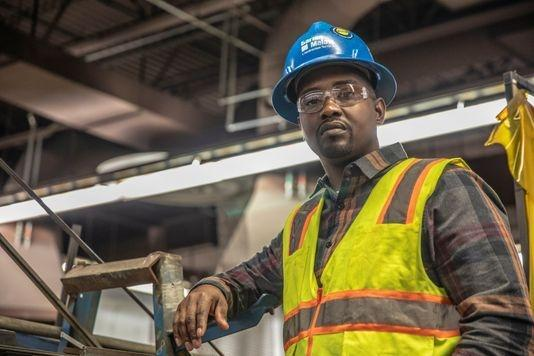helmet: (267, 19, 400, 126)
person: (216, 20, 534, 356)
vest: (283, 159, 464, 356)
